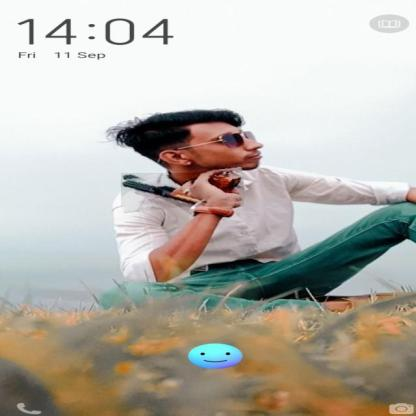handgun: (121, 170, 244, 210)
